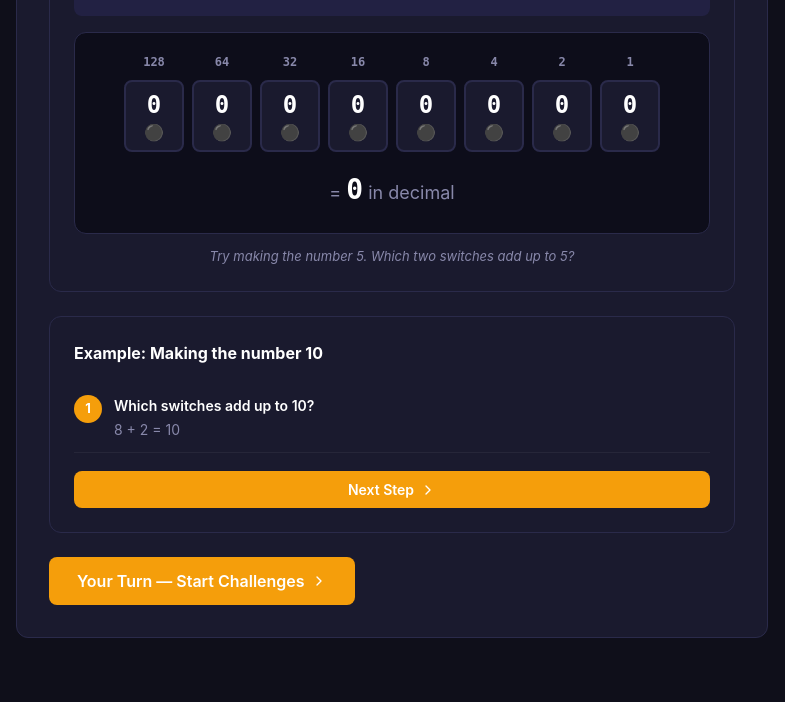
Test: ModulePage navigation › shows "Re-read the lesson" button after starting challenges
(page scrolled)
Click the button with test id "start-challenges": (202, 581) [49,557,355,605]
(page scrolled)
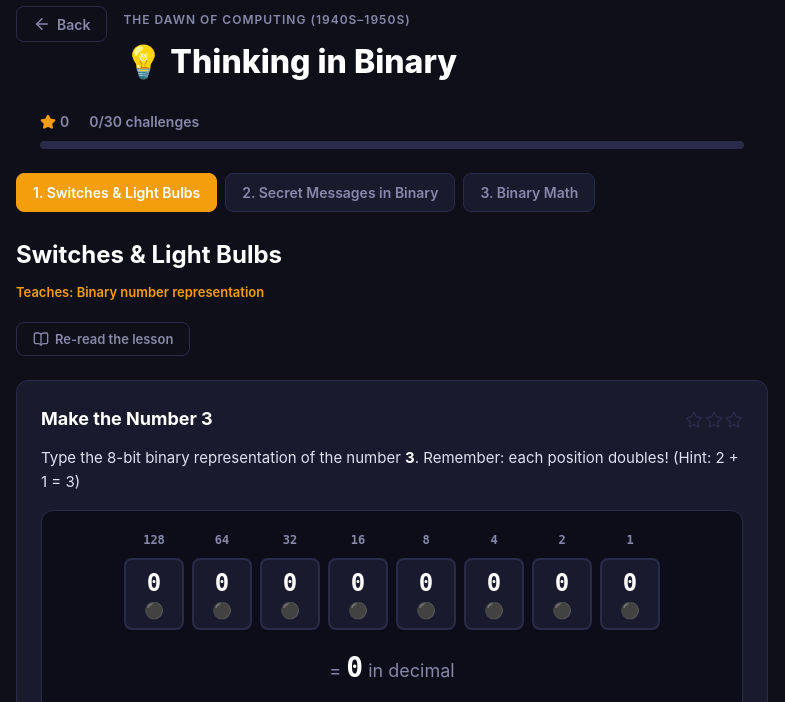
Expected: the button "Re-read the lesson" is shown, [16,322,190,356]
